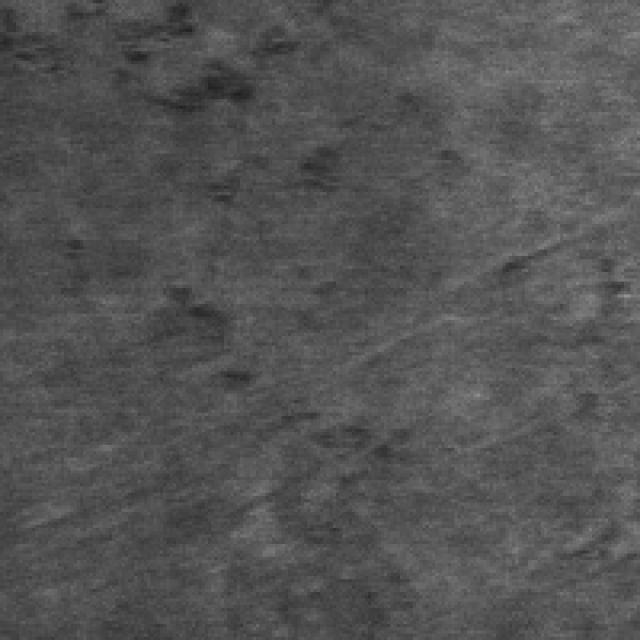rolled-in_scale: (221, 387, 403, 547), (102, 0, 320, 122)
